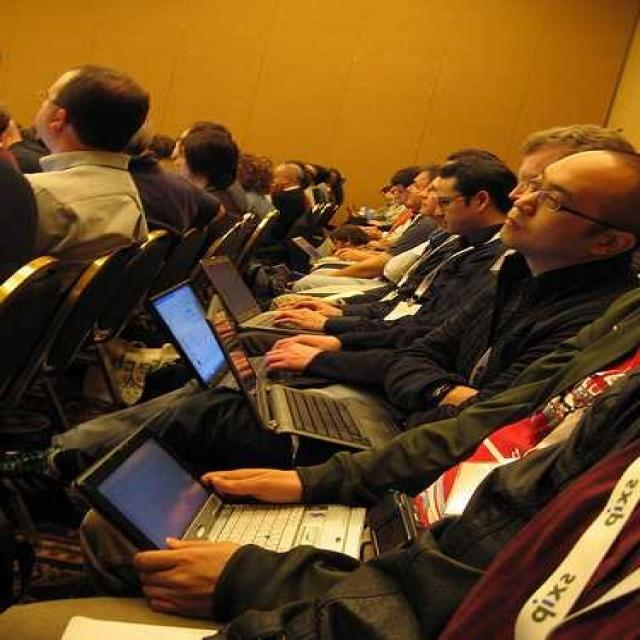laptop: (150, 300, 322, 441), (102, 452, 266, 540), (202, 257, 292, 332)
